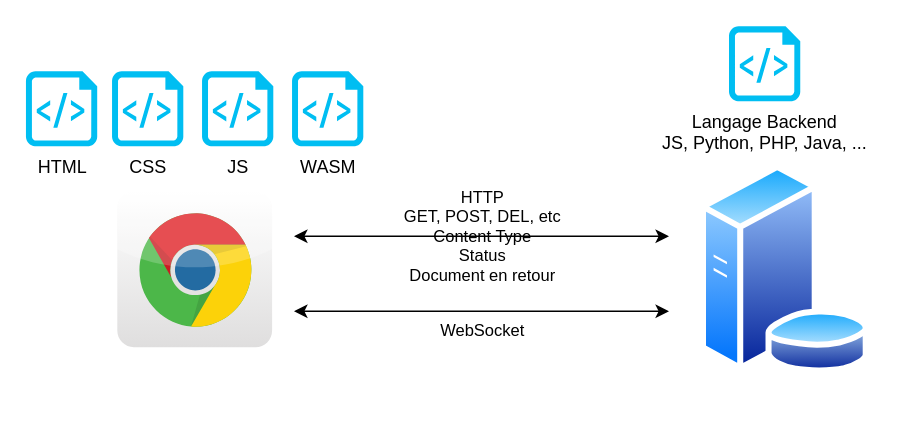
The diagram is 897 pixels wide and 435 high, and some of its shapes have lost their labels. Here are the shapes that lost their labels. From the top down, the centre of each, then its label:
At pixel 194 268: "Navigateur client".
At pixel 784 269: "Serveur et BDD".
